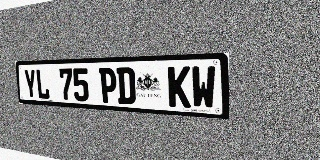5: (72, 68, 89, 102)
7: (58, 68, 74, 101)
D: (116, 67, 136, 105)
K: (168, 66, 191, 108)
L: (35, 69, 50, 100)
P: (99, 68, 117, 104)
W: (191, 66, 216, 109)
Y: (23, 69, 37, 99)
